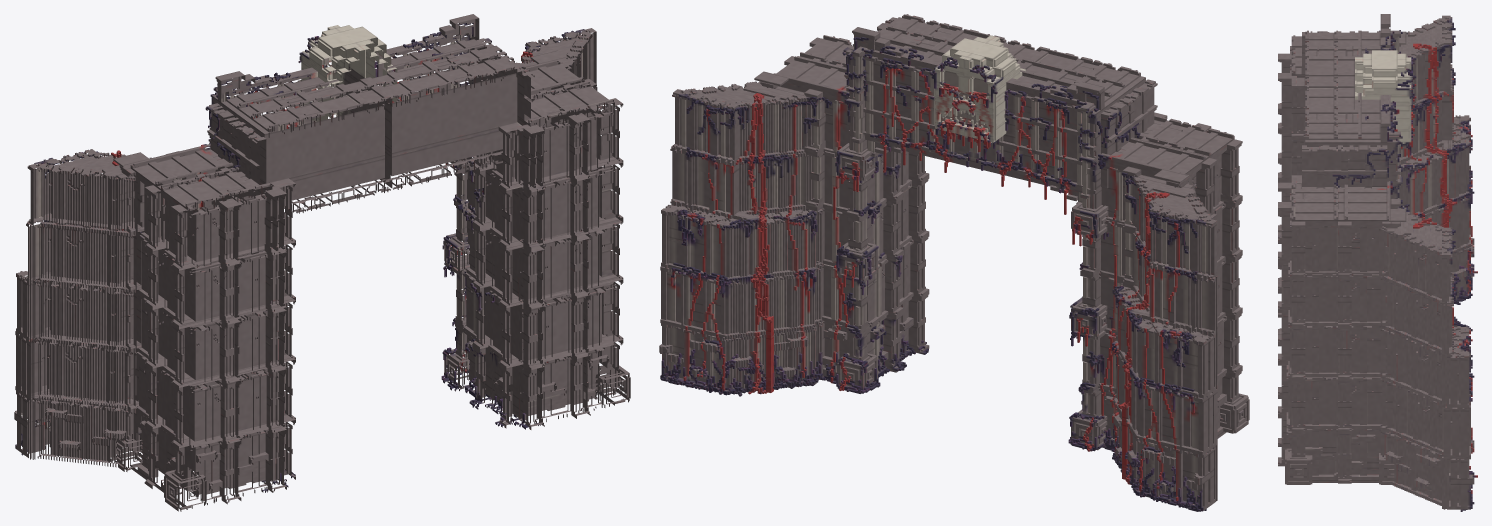
File: Deathgate_state_4.fbx
The picture shows the model from 3 angles, left to right: view 1: azimuth 30°, elevation 25°; view 2: azimuth 150°, elevation 25°; view 3: azimuth 270°, elevation 25°; orthographic projection. The views are drawn at different scales.
Visible parts, largest first — view 1: deathGate_state_4_part_9, deathGate_state_4, deathGate_state_4_part_10, deathGate_state_4_part_3, deathGate_state_4_part_1, deathGate_state_4_part_5, deathGate_state_4_part_7, deathGate_state_4_part_8, deathGate_state_4_part, deathGate_state_4_part_2, deathGate_state_4_part_6, deathGate_state_4_part_4; view 2: deathGate_state_4_part_10, deathGate_state_4_part_9, deathGate_state_4, deathGate_state_4_part, deathGate_state_4_part_4, deathGate_state_4_part_2, deathGate_state_4_part_8, deathGate_state_4_part_6, deathGate_state_4_part_5, deathGate_state_4_part_1, deathGate_state_4_part_3, deathGate_state_4_part_7; view 3: deathGate_state_4_part_8, deathGate_state_4_part, deathGate_state_4_part_2, deathGate_state_4_part_4, deathGate_state_4_part_6, deathGate_state_4, deathGate_state_4_part_10, deathGate_state_4_part_5, deathGate_state_4_part_9, deathGate_state_4_part_7, deathGate_state_4_part_3, deathGate_state_4_part_1.
Boxes of the visible parts, x1,y1,x2,y2 form: deathGate_state_4_part_9: (27, 103, 280, 270); deathGate_state_4: (332, 14, 537, 191); deathGate_state_4_part_10: (208, 26, 392, 251); deathGate_state_4_part_3: (15, 327, 295, 447); deathGate_state_4_part_1: (14, 385, 295, 511); deathGate_state_4_part_5: (16, 271, 295, 387); deathGate_state_4_part_7: (26, 207, 295, 328); deathGate_state_4_part_8: (472, 28, 623, 190); deathGate_state_4_part: (441, 305, 630, 429); deathGate_state_4_part_2: (443, 253, 623, 369); deathGate_state_4_part_6: (445, 85, 623, 252); deathGate_state_4_part_4: (442, 200, 623, 309); deathGate_state_4_part_10: (964, 36, 1160, 221); deathGate_state_4_part_9: (1089, 79, 1242, 273); deathGate_state_4: (842, 14, 1020, 172); deathGate_state_4_part: (659, 291, 929, 396); deathGate_state_4_part_4: (661, 179, 929, 280); deathGate_state_4_part_2: (660, 233, 929, 337); deathGate_state_4_part_8: (672, 17, 896, 161); deathGate_state_4_part_6: (670, 142, 929, 222); deathGate_state_4_part_5: (1069, 254, 1242, 394); deathGate_state_4_part_1: (1068, 368, 1249, 511); deathGate_state_4_part_3: (1070, 310, 1242, 453); deathGate_state_4_part_7: (1071, 197, 1242, 330); deathGate_state_4_part_8: (1278, 145, 1455, 301); deathGate_state_4_part: (1278, 393, 1477, 511); deathGate_state_4_part_2: (1278, 341, 1474, 456); deathGate_state_4_part_4: (1278, 292, 1472, 404); deathGate_state_4_part_6: (1278, 238, 1469, 354); deathGate_state_4: (1278, 59, 1416, 234); deathGate_state_4_part_10: (1278, 14, 1416, 136); deathGate_state_4_part_5: (1278, 115, 1472, 231); deathGate_state_4_part_9: (1278, 15, 1455, 125); deathGate_state_4_part_7: (1278, 64, 1455, 180); deathGate_state_4_part_3: (1278, 165, 1474, 281); deathGate_state_4_part_1: (1278, 235, 1477, 334).
Size of the model in its own units: 334 by 215 by 117.
1 material, 1 textured.
